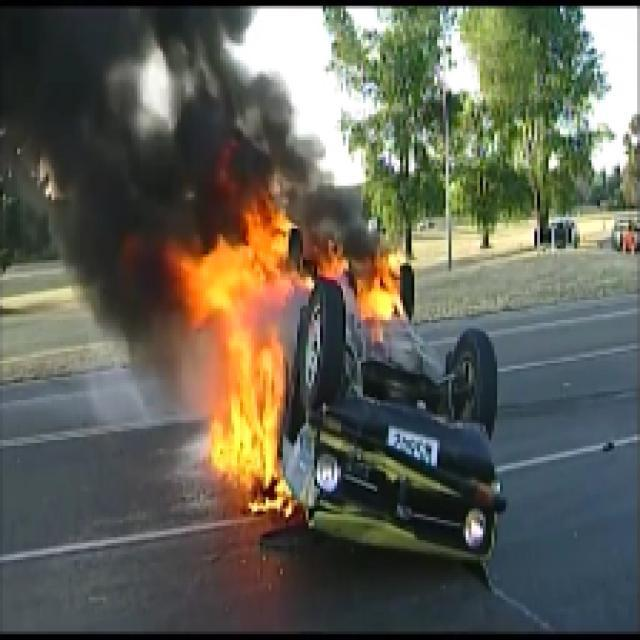Fire: (171, 231, 427, 469)
Smoke: (9, 11, 317, 225)
